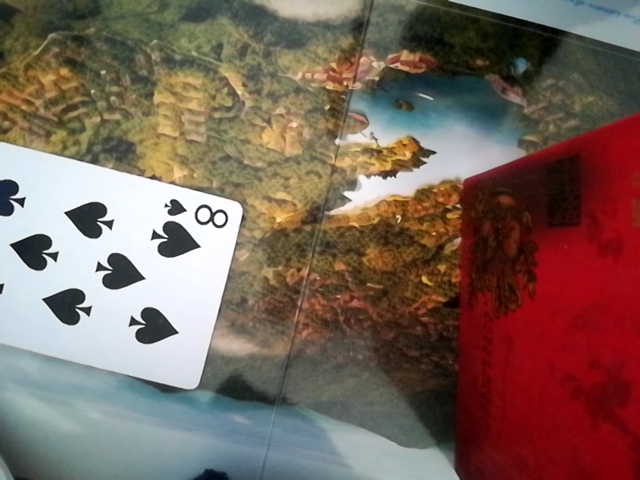ht 8: (0, 132, 246, 401)
